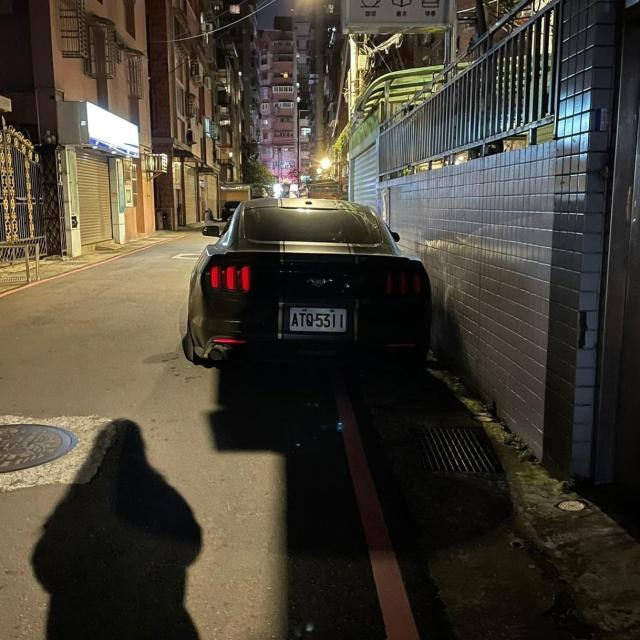W: (286, 302, 352, 340)
